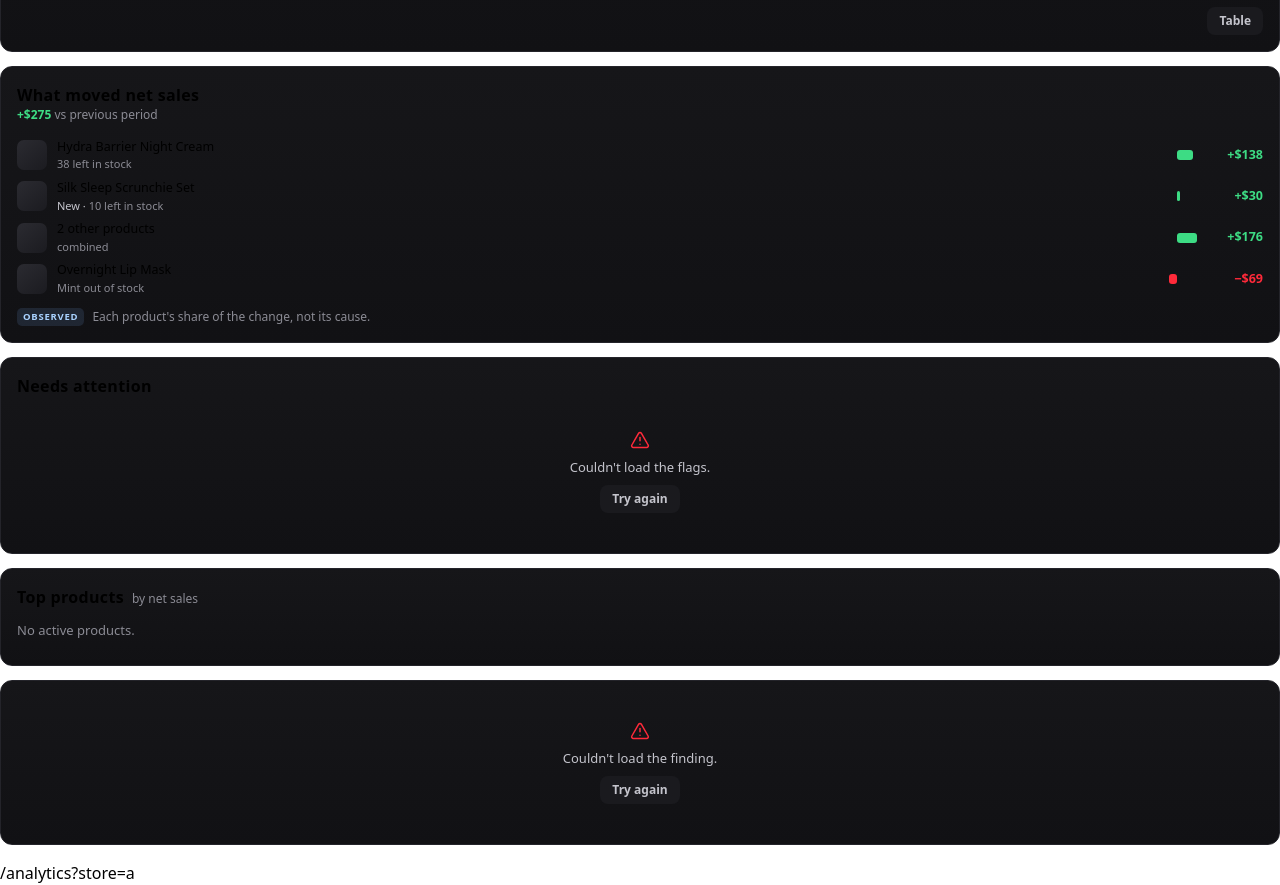
it: Overview assembly (SA-79) › a 502 from insights shows that panel's error with a retry; the others render
The image size is (1280, 885).
(page scrolled)
Expected: the heading "What moved net sales" is shown, [17, 82, 199, 106]
Expected: the heading "Needs attention" is shown, [17, 374, 152, 398]
Click the button "Try again" below "Couldn't load the flags." at (640, 499), box [600, 485, 680, 513]
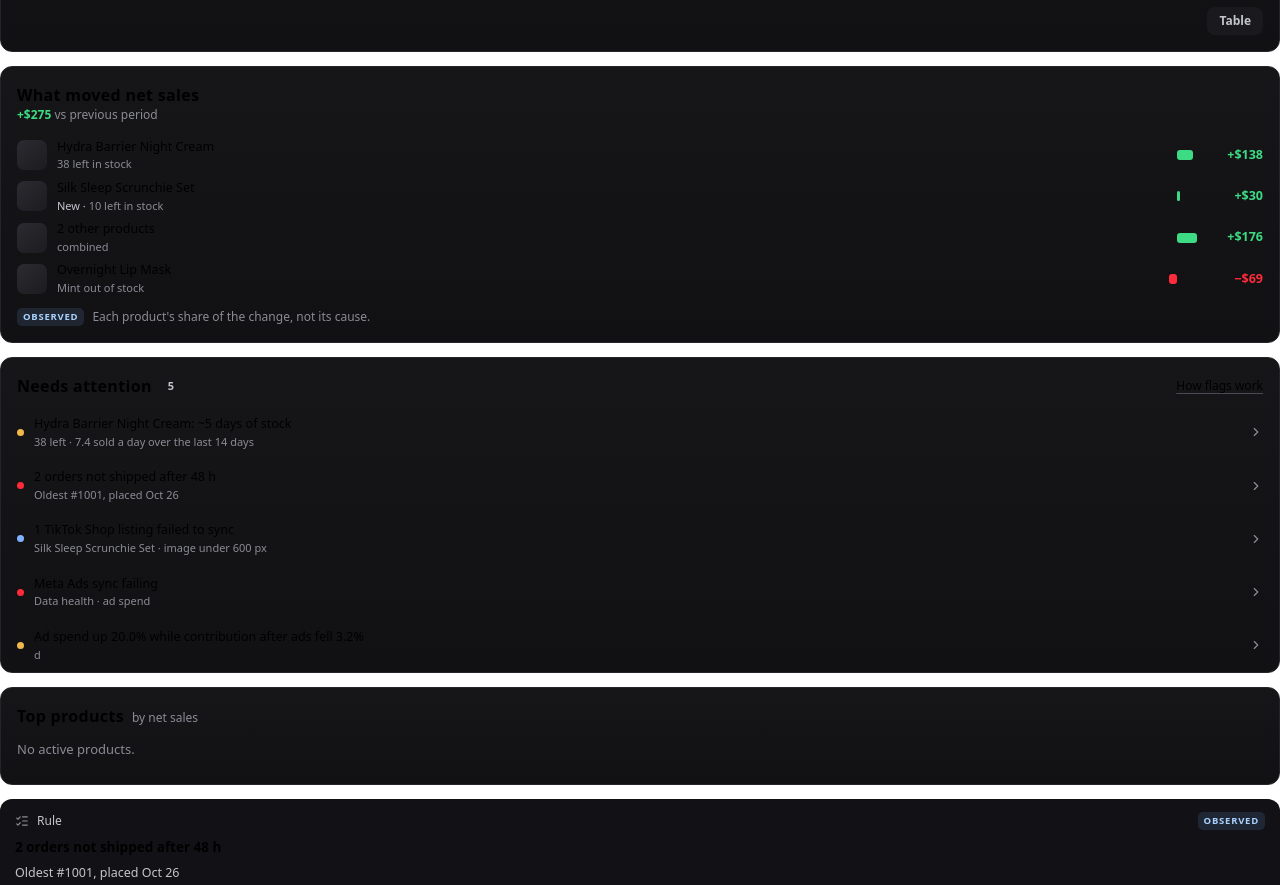
Result: the text "Couldn't load the flags." is gone
